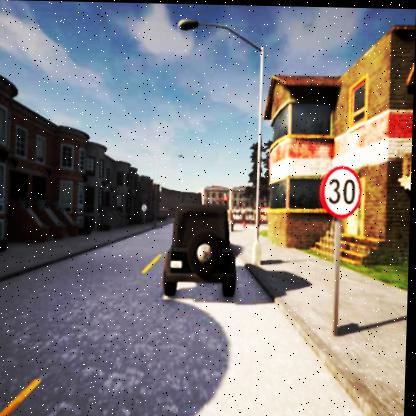vehicle: (165, 202, 241, 297)
